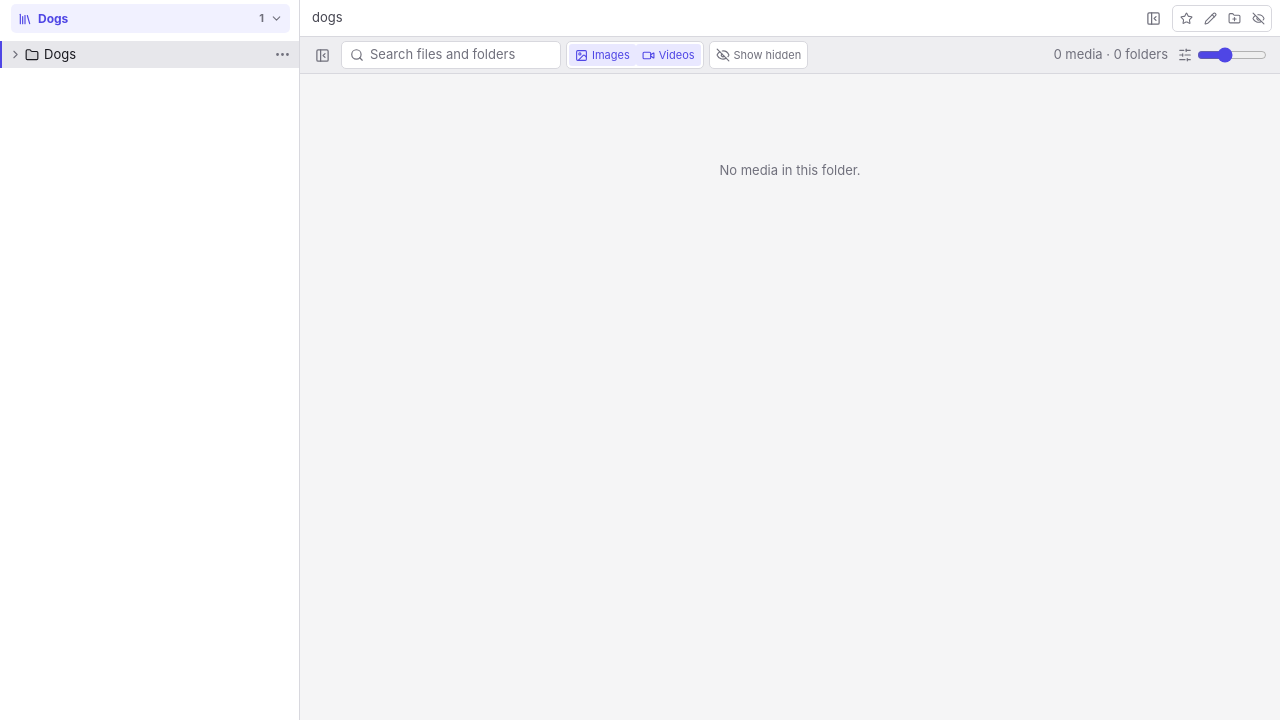
Test: BrowsePage requests › does not reload the active collection when opening an already populated picker
This screenshot has width=1280, height=720.
Click the button with aria-label "Folder scope: Dogs" at (53, 18), box [11,4,290,33]
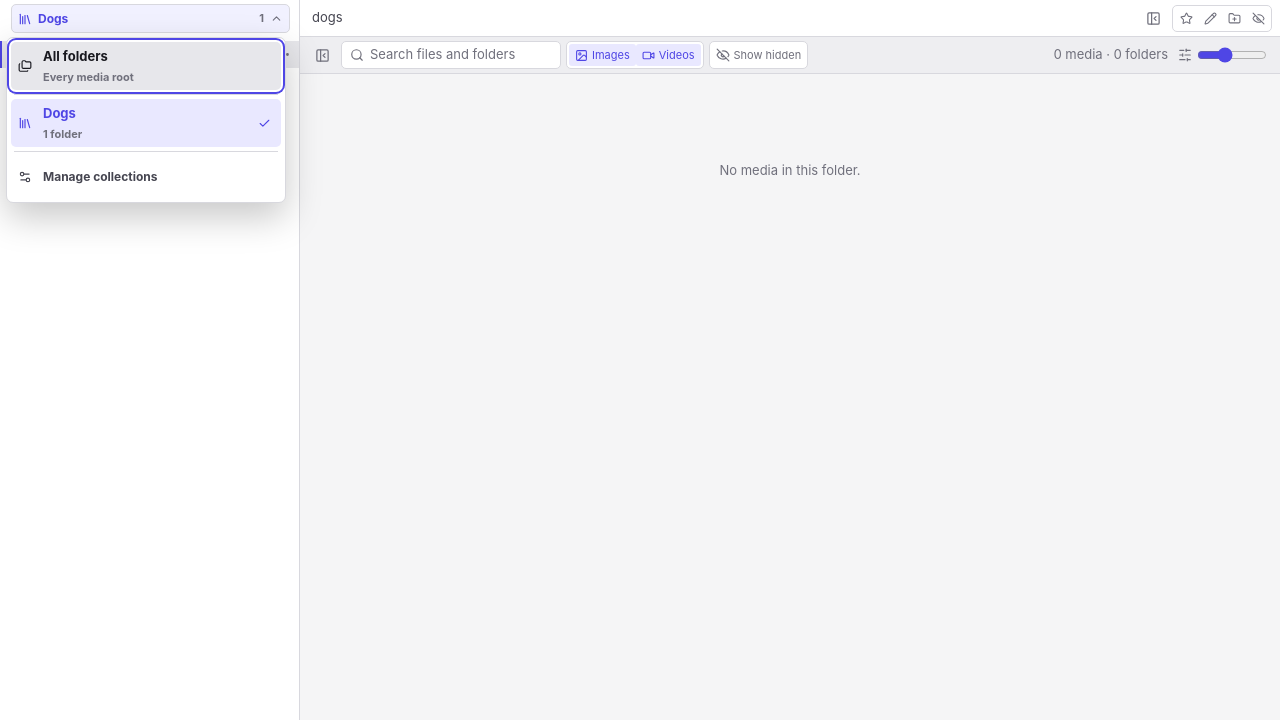
Check: the menu named "Folder scope" is shown, box [6,37,286,203]
